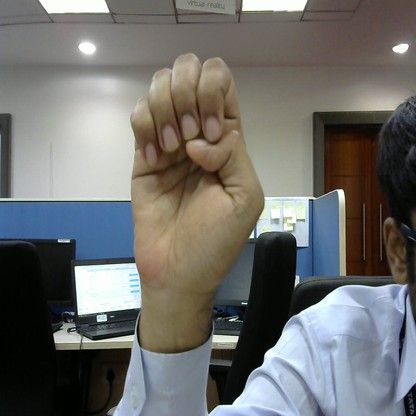e: (122, 45, 269, 292)
